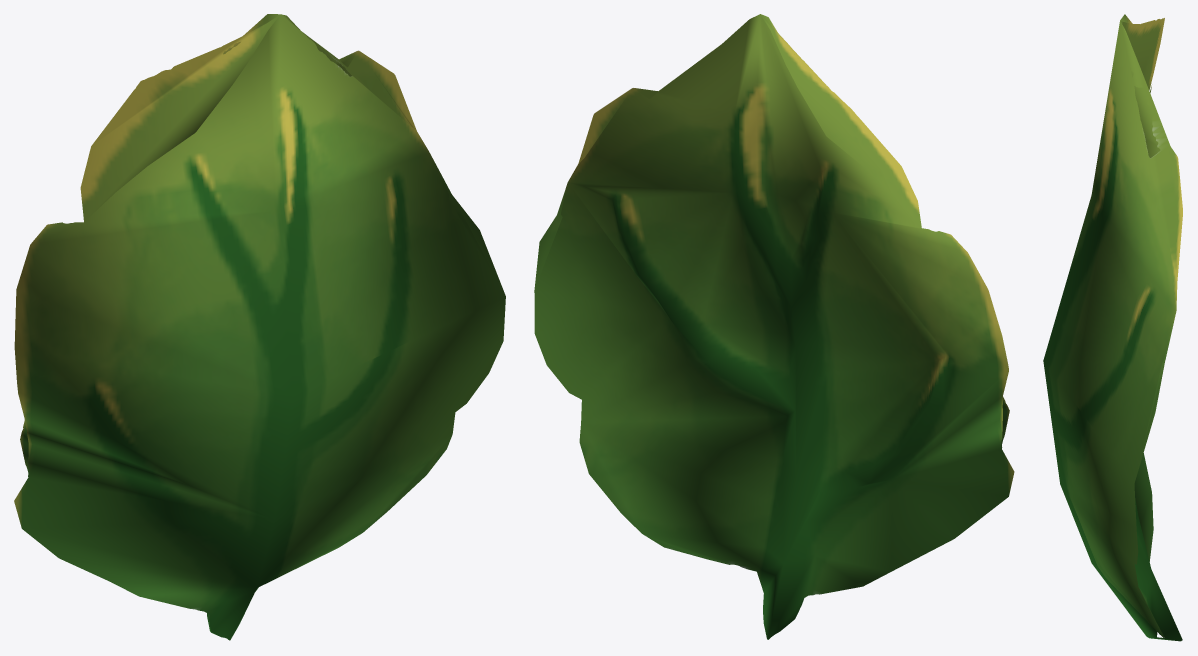
Rendered from Daun_Basil.fbx.
The picture shows the model from 3 angles, left to right: view 1: azimuth 30°, elevation 25°; view 2: azimuth 150°, elevation 25°; view 3: azimuth 270°, elevation 25°; orthographic projection. The views are drawn at different scales.
Parts seen in each view (by area): view 1: Plane.001; view 2: Plane.001; view 3: Plane.001.
Boxes of the visible parts, x1=… form: Plane.001: x1=14, y1=14, x2=505, y2=640; Plane.001: x1=534, y1=14, x2=1014, y2=639; Plane.001: x1=1043, y1=14, x2=1182, y2=641.
Size of the model in its own units: 10.26 by 2.46 by 12.43.
Materials: 1 (1 with a texture image).
